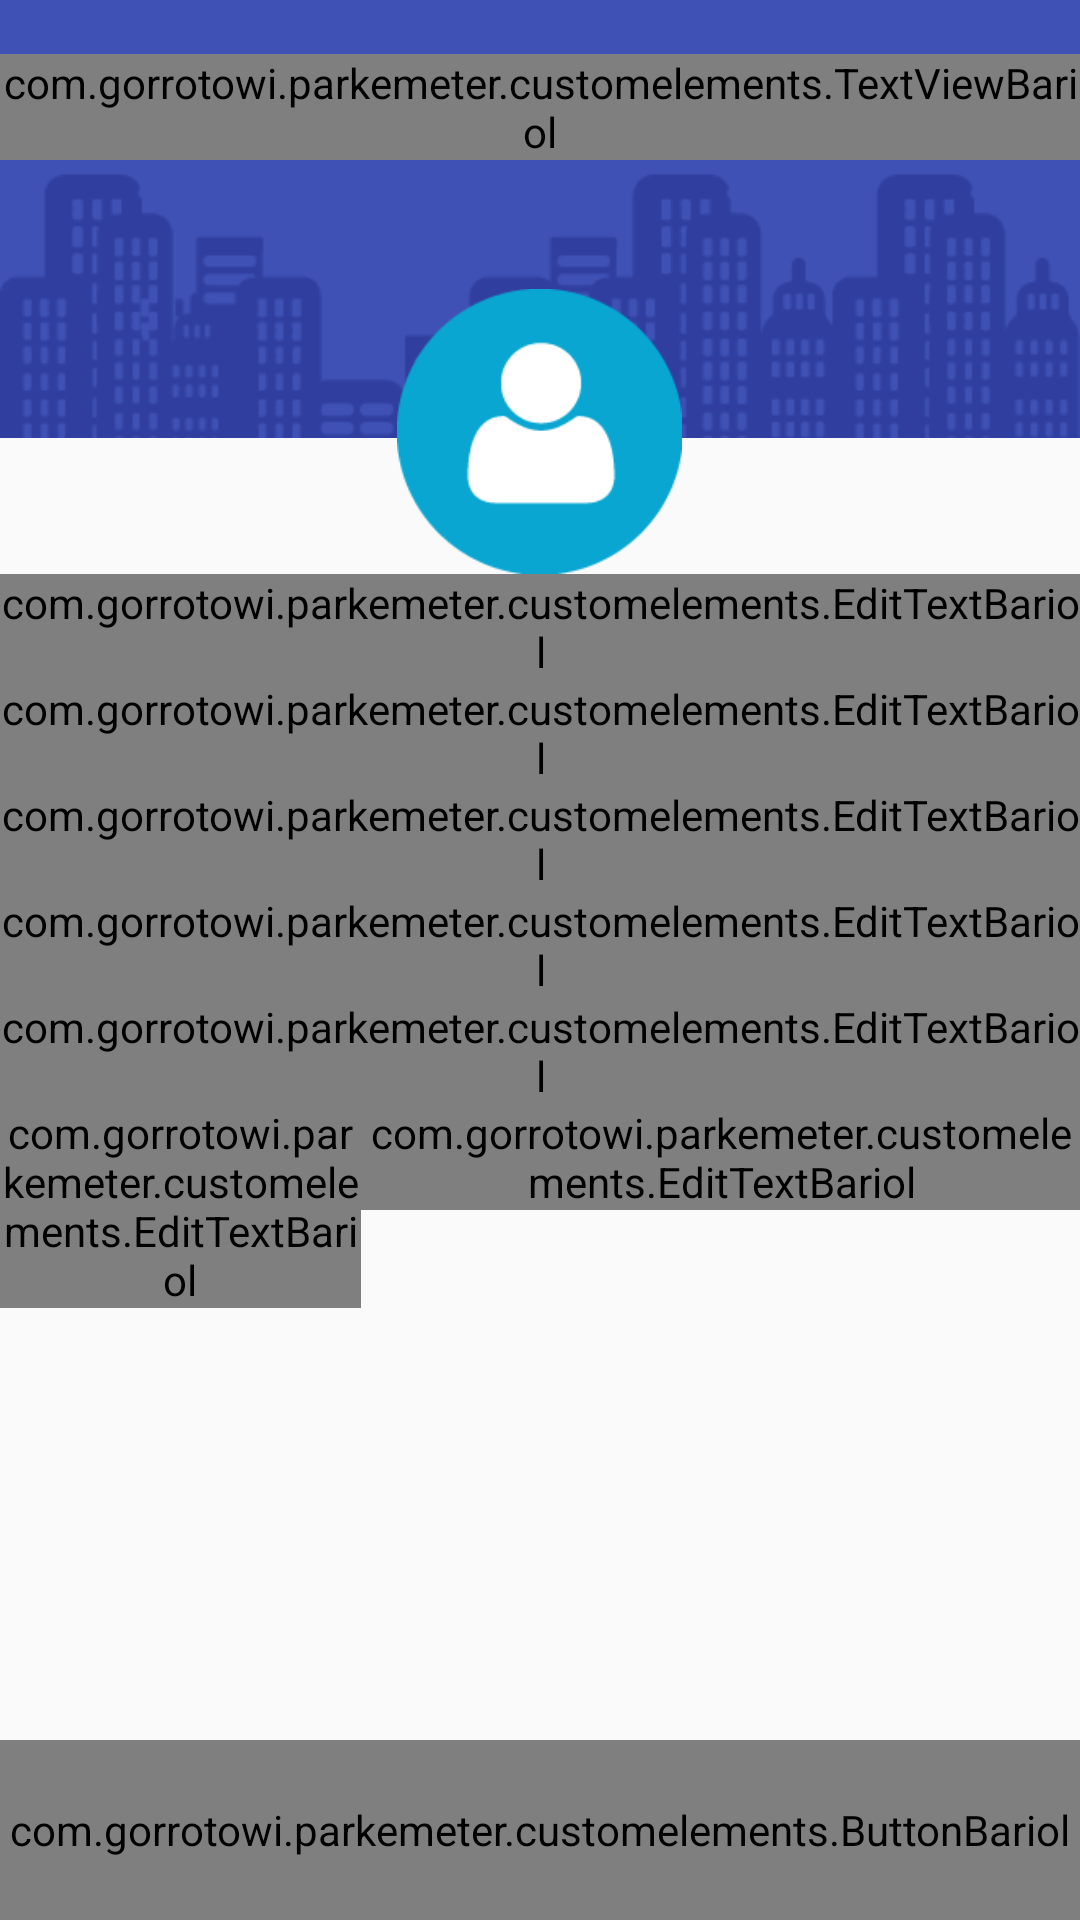

Screen size 1080 × 1920. Icon name, then its center in pixels as point (x, y):
user circle: point (539, 431)
